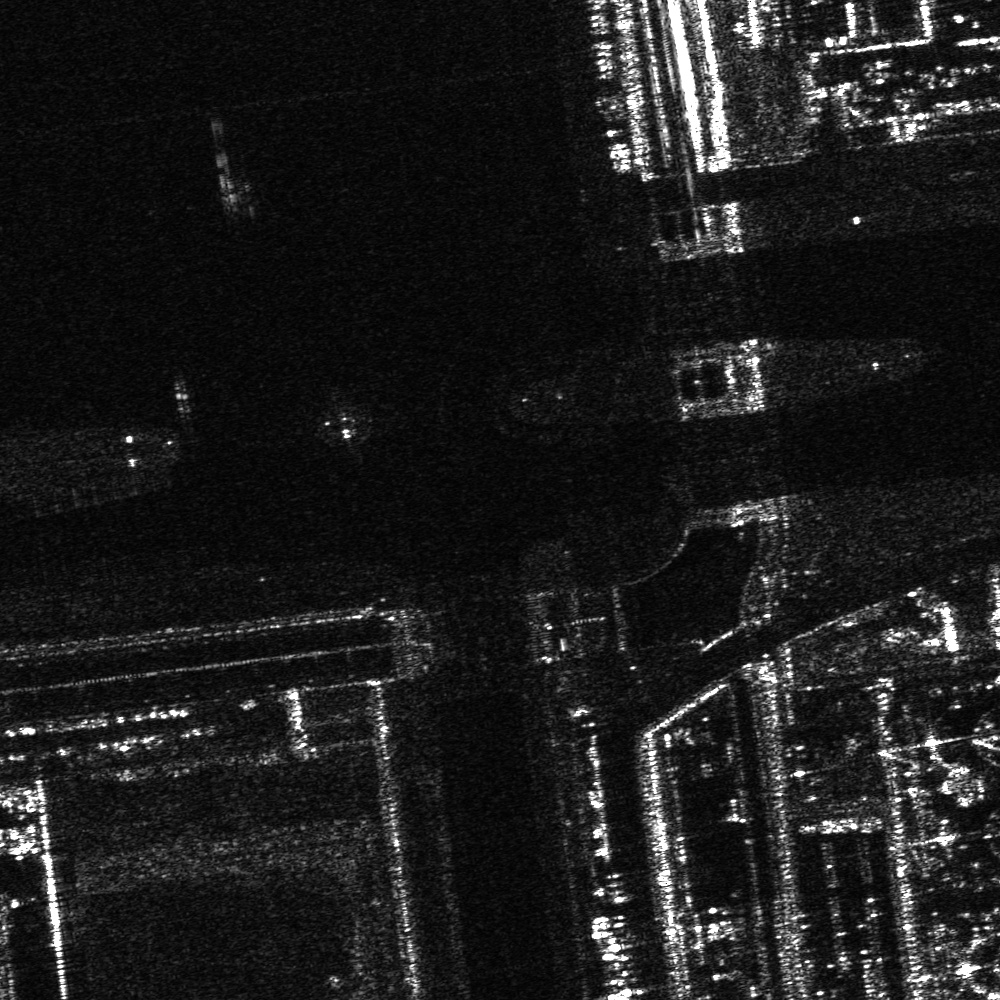A330: (317, 392, 369, 439)
